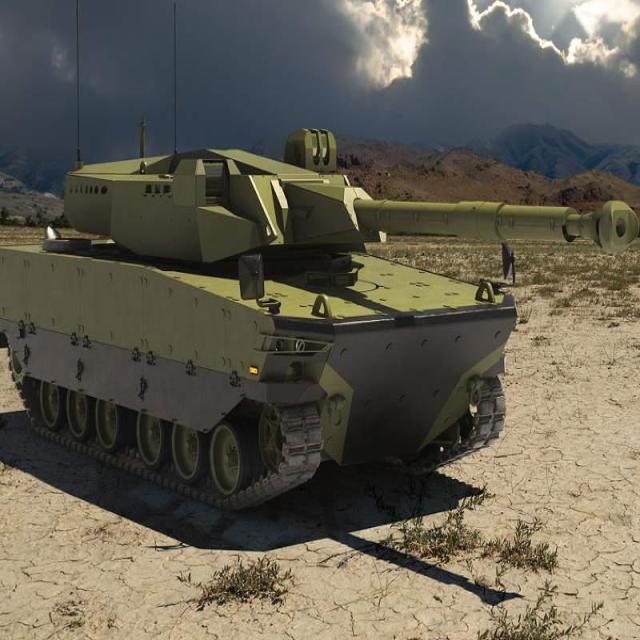Tanks: (11, 123, 530, 517)
